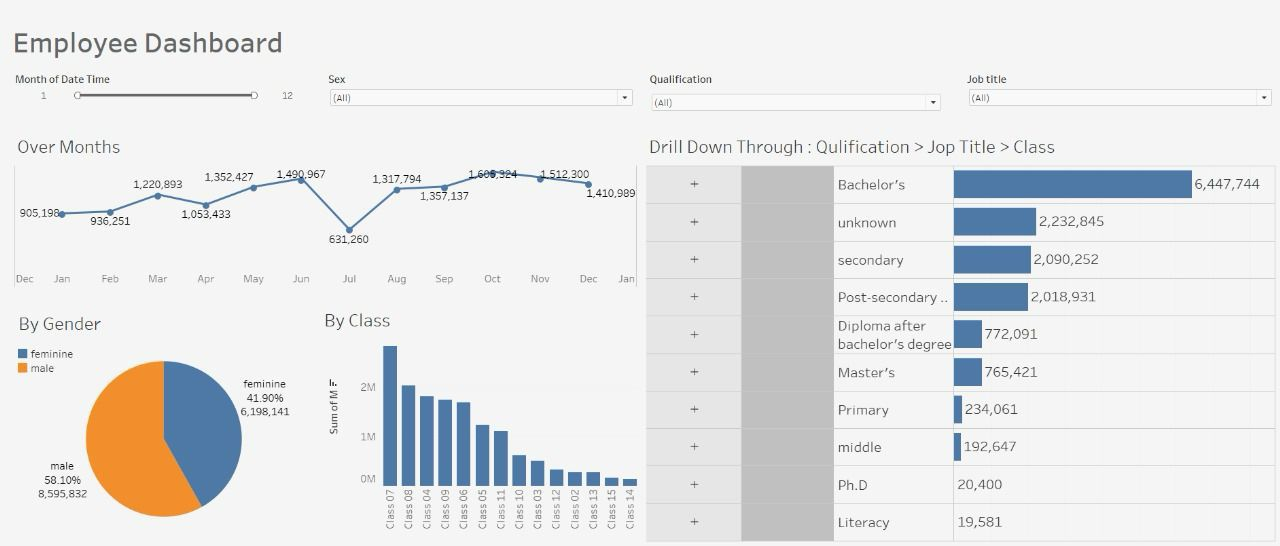

What the dashboard file says about the page in this screenshot:
{"tool":"tableau","page":{"name":"Dashboard 1","canvas":[1000,1000],"units":"permille","ordinal":0},"visuals":[{"type":"text","box":[7.9,28.7,550.4,78.7]},{"type":"filter","title":"Sheet 1","param":"[federated.0pttsd209mf04811k4rwh1tho6a5].[mn:DateTime:qk]","box":[11.5,124.8,235.4,82.4]},{"type":"filter","title":"Sheet 2","param":"[federated.0pttsd209mf04811k4rwh1tho6a5].[none:Sex:nk]","box":[255.9,124.8,239,82.4]},{"type":"filter","title":"Sheet 3","param":"[federated.0pttsd209mf04811k4rwh1tho6a5].[none:qualification:nk]","box":[506.3,124.8,228.7,82.4]},{"type":"filter","title":"Sheet 1","param":"[federated.0pttsd209mf04811k4rwh1tho6a5].[none:Job title:nk]","box":[753.8,124.8,239.6,82.4]},{"type":"worksheet","title":"Sheet 1","mark":"Automatic","rows":["M","M"],"cols":["DateTime"],"box":[10.9,234.7,485.2,287.1]},{"type":"worksheet","title":"Sheet 3","mark":"Automatic","rows":["qualification","Calculation_2402951895835021312","Qulification Header (copy)_2402951895835807745","Calculation_2402951895839170564","Calculation_2402951895836876802"],"cols":["M"],"box":[503.9,234.7,490.7,754.1]},{"type":"worksheet","title":"Sheet 4","mark":"Automatic","rows":["M"],"cols":["Class"],"box":[250.5,554.3,248,432]},{"type":"worksheet","title":"Sheet 2","mark":"Pie","box":[12.1,560.6,231.1,417]},{"type":"legend","title":"Sheet 2","param":"[federated.0pttsd209mf04811k4rwh1tho6a5].[none:Sex:nk]","box":[12.1,630.5,84.5,79.9]}]}

Visuals, with their boxes on the dashboard's canvas, which has no fixed pixel size, in thousandths of its width and height (x1, y1, x2, y2). These are canvas units, not pixel positions in the 1280x546 screenshot, which may show the page scaled, cropped or inside an application window:
text: [8, 29, 558, 107]
"Sheet 1" filter: [12, 125, 247, 207]
"Sheet 2" filter: [256, 125, 495, 207]
"Sheet 3" filter: [506, 125, 735, 207]
"Sheet 1" filter: [754, 125, 993, 207]
"Sheet 1" worksheet: [11, 235, 496, 522]
"Sheet 3" worksheet: [504, 235, 995, 989]
"Sheet 4" worksheet: [250, 554, 498, 986]
"Sheet 2" worksheet (Pie marks): [12, 561, 243, 978]
"Sheet 2" legend: [12, 630, 97, 710]
